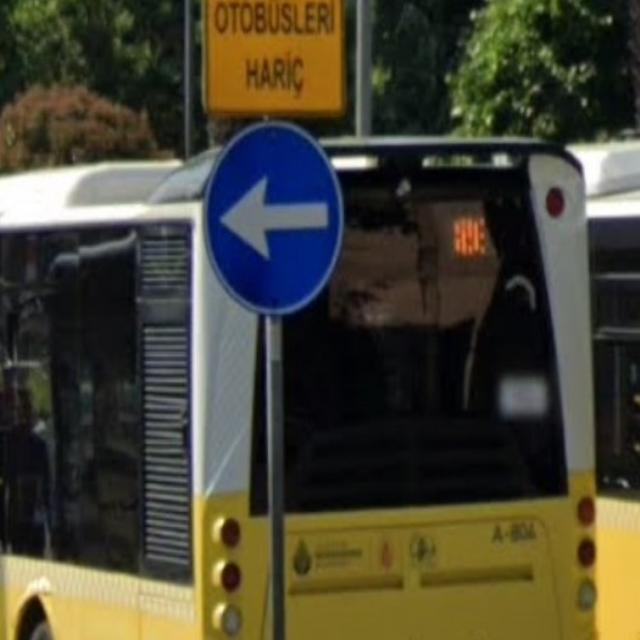Turn Left: (202, 114, 342, 318)
